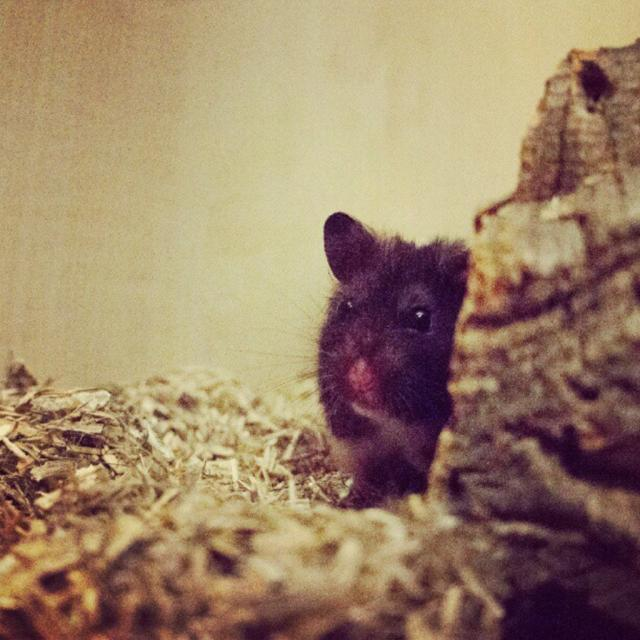rat: (250, 206, 468, 489)
